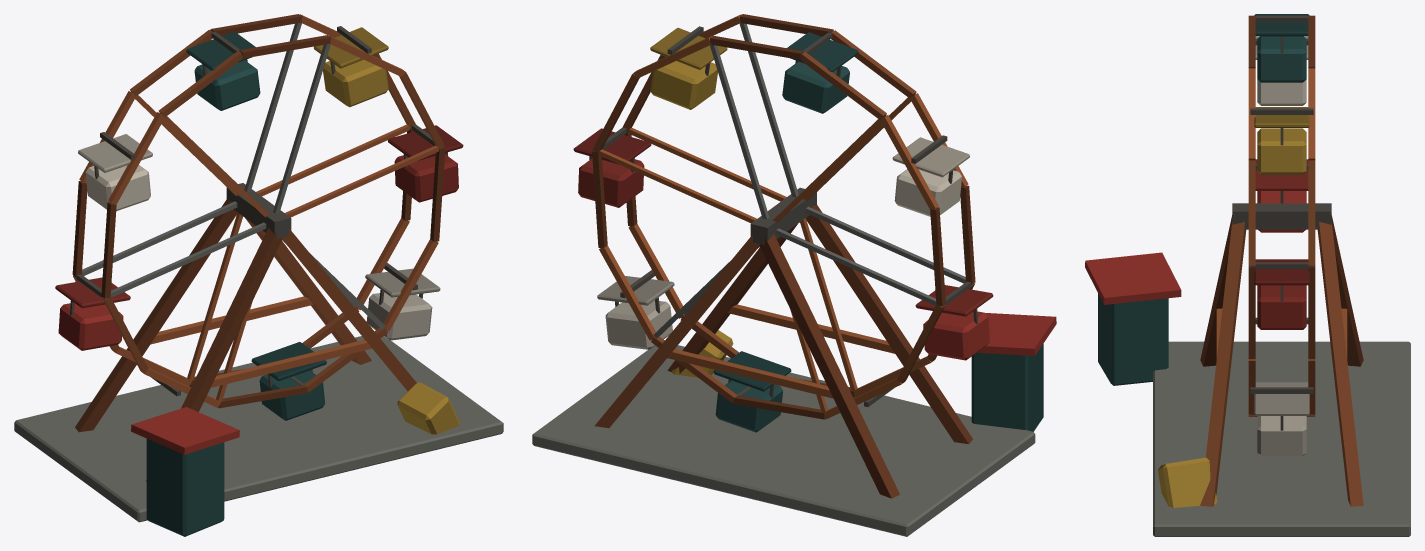
The model's file is parque_roda_gigante.glb.
3 views of the same model, side by side, from view 1: azimuth 30°, elevation 25°; view 2: azimuth 150°, elevation 25°; view 3: azimuth 270°, elevation 25° (orthographic). The views are drawn at different scales.
Parts seen in each view (by area): view 1: parque_roda_gigante.001; view 2: parque_roda_gigante.001; view 3: parque_roda_gigante.001.
Part boxes in pixels (x1=…): parque_roda_gigante.001: x1=14, y1=14, x2=503, y2=536; parque_roda_gigante.001: x1=532, y1=14, x2=1056, y2=536; parque_roda_gigante.001: x1=1085, y1=14, x2=1410, y2=536.
Size of the model in its own units: 4.6 by 4.67 by 3.29.
